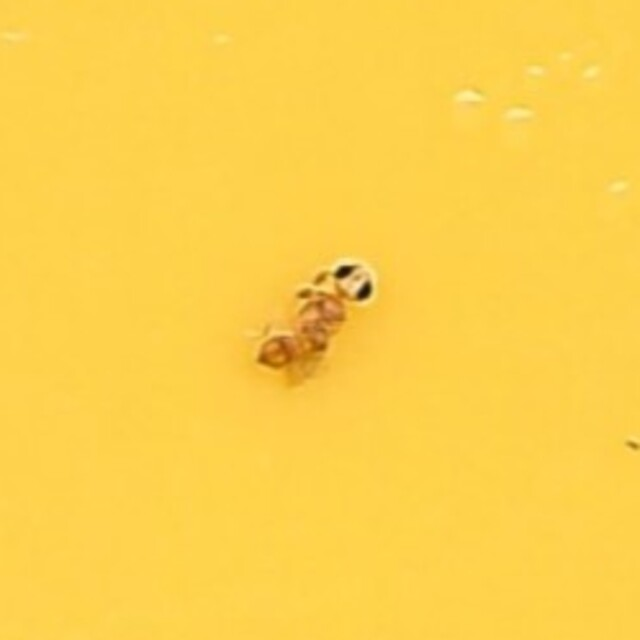Hymenoptera: (257, 253, 383, 387)
